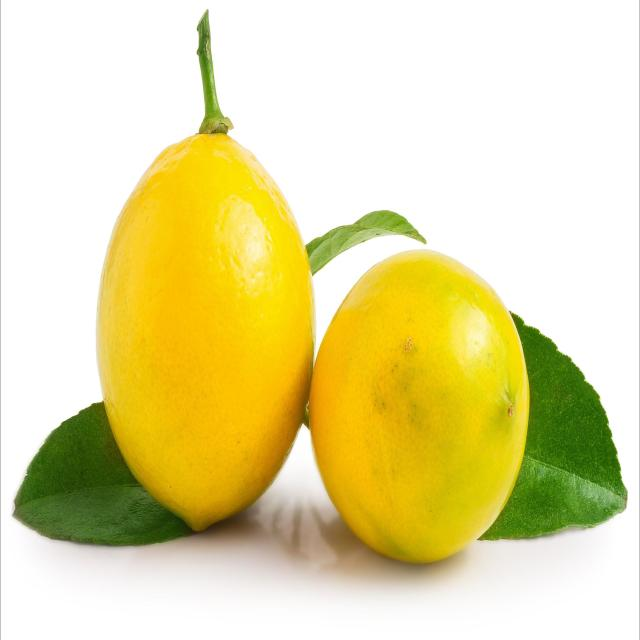lemon: (90, 120, 323, 538), (306, 241, 535, 574)
